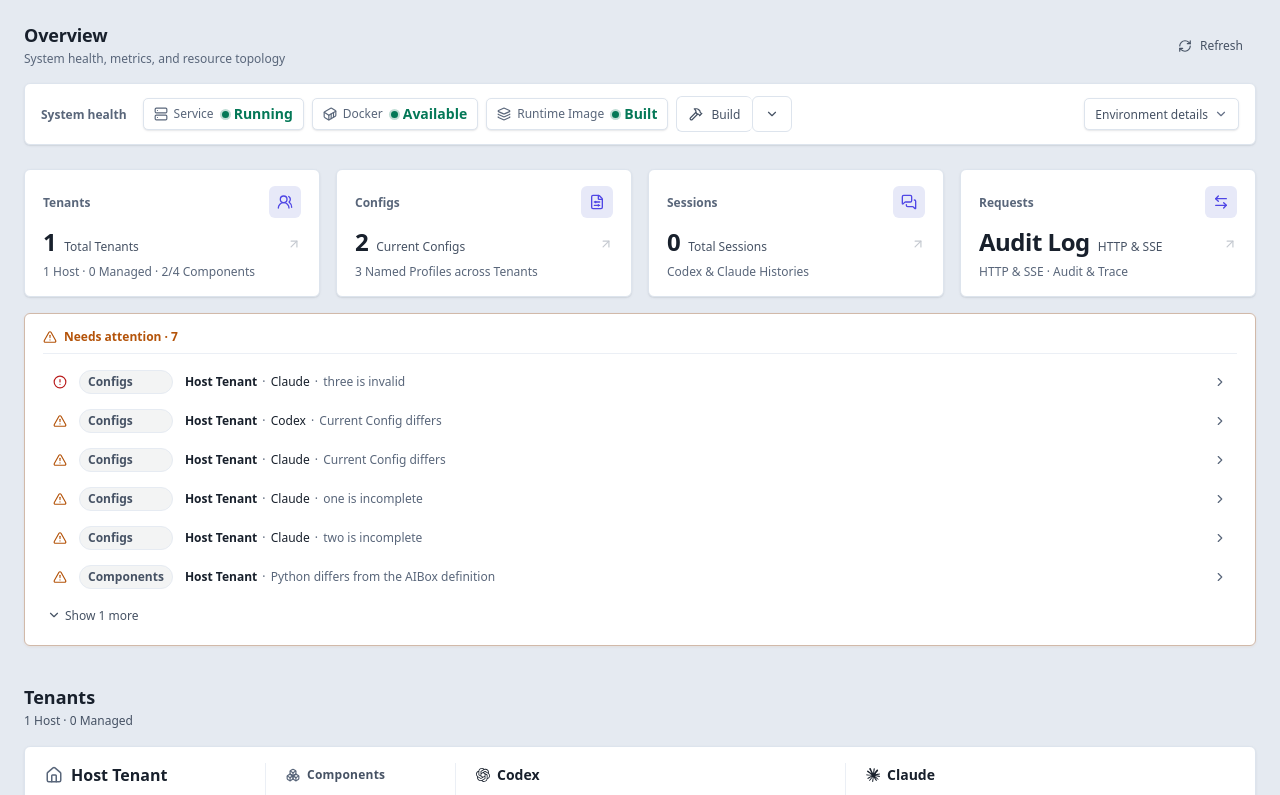
Test case: OverviewPage attention panel › lists one row per condition instead of folding the rest into +N more
The width and height of the screenshot is (1280, 795).
// Every named Config that needs work is reachable, not just the first.
What coordinates should you click on to do the following:
click the button "Show 1 more"
I would click on:
 (93, 616)
Its box is [39,600,146,632].
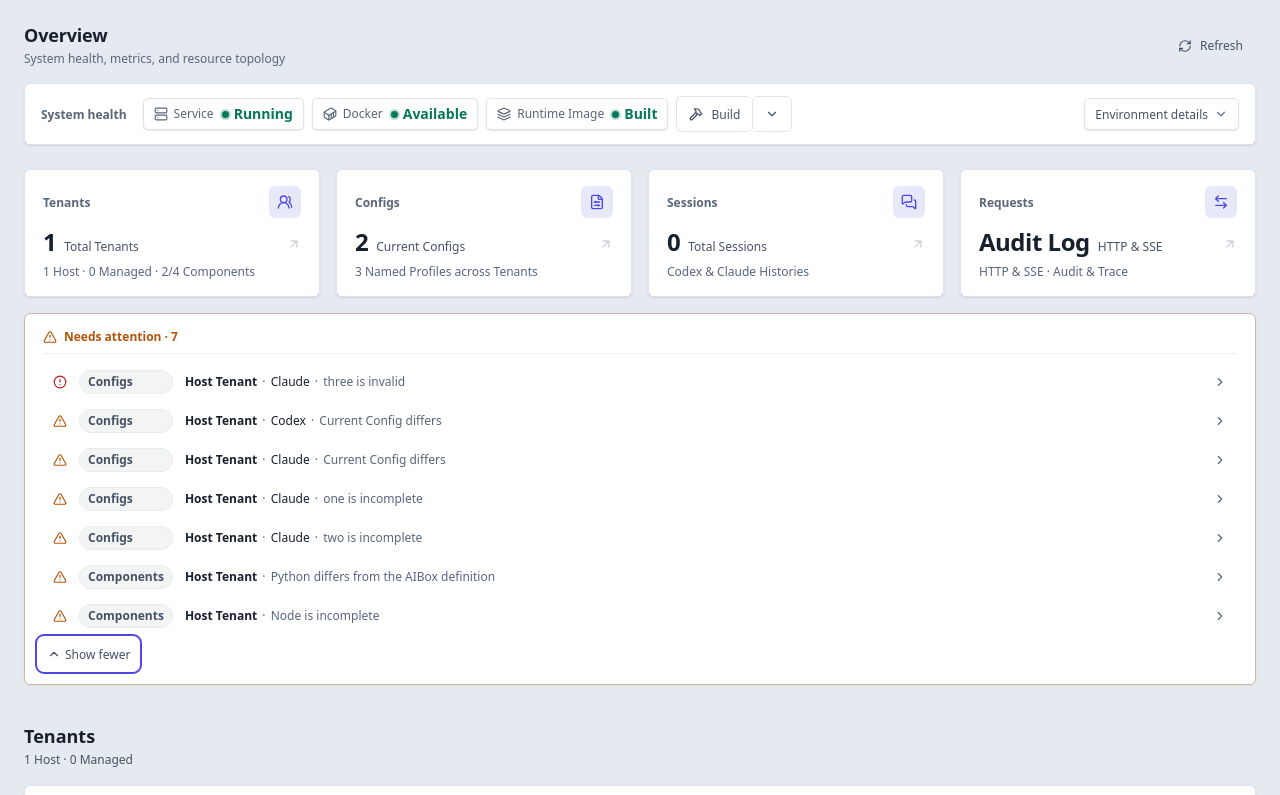
Expected: the number of links is 7
